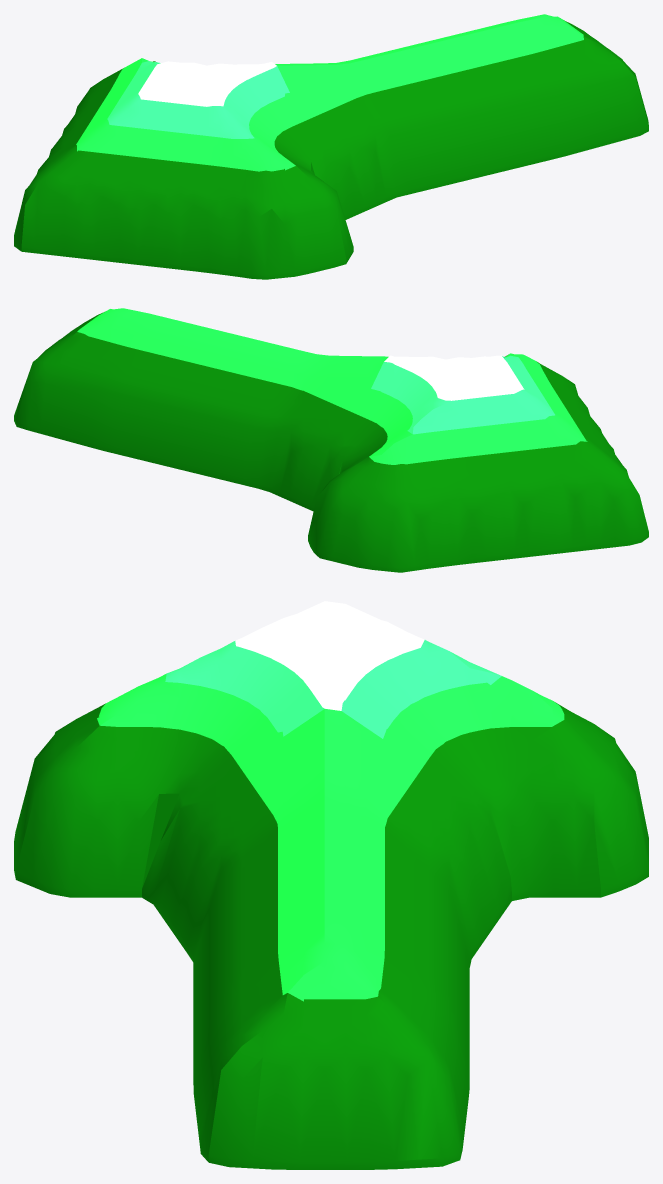
The model's file is arrow_left_209.glb.
3 renders of one model, top to bottom at view 1: azimuth 30°, elevation 25°; view 2: azimuth 150°, elevation 25°; view 3: azimuth 270°, elevation 25°, orthographic. The views are drawn at different scales.
Visible parts, largest first — view 1: arrow_left_209; view 2: arrow_left_209; view 3: arrow_left_209.
Part boxes in pixels (x1,y1,x2,y2): arrow_left_209: (14, 14, 648, 279); arrow_left_209: (14, 308, 648, 572); arrow_left_209: (14, 601, 648, 1169).
Bounding box in the file's own units: 12.07 × 2.52 × 6.9.
